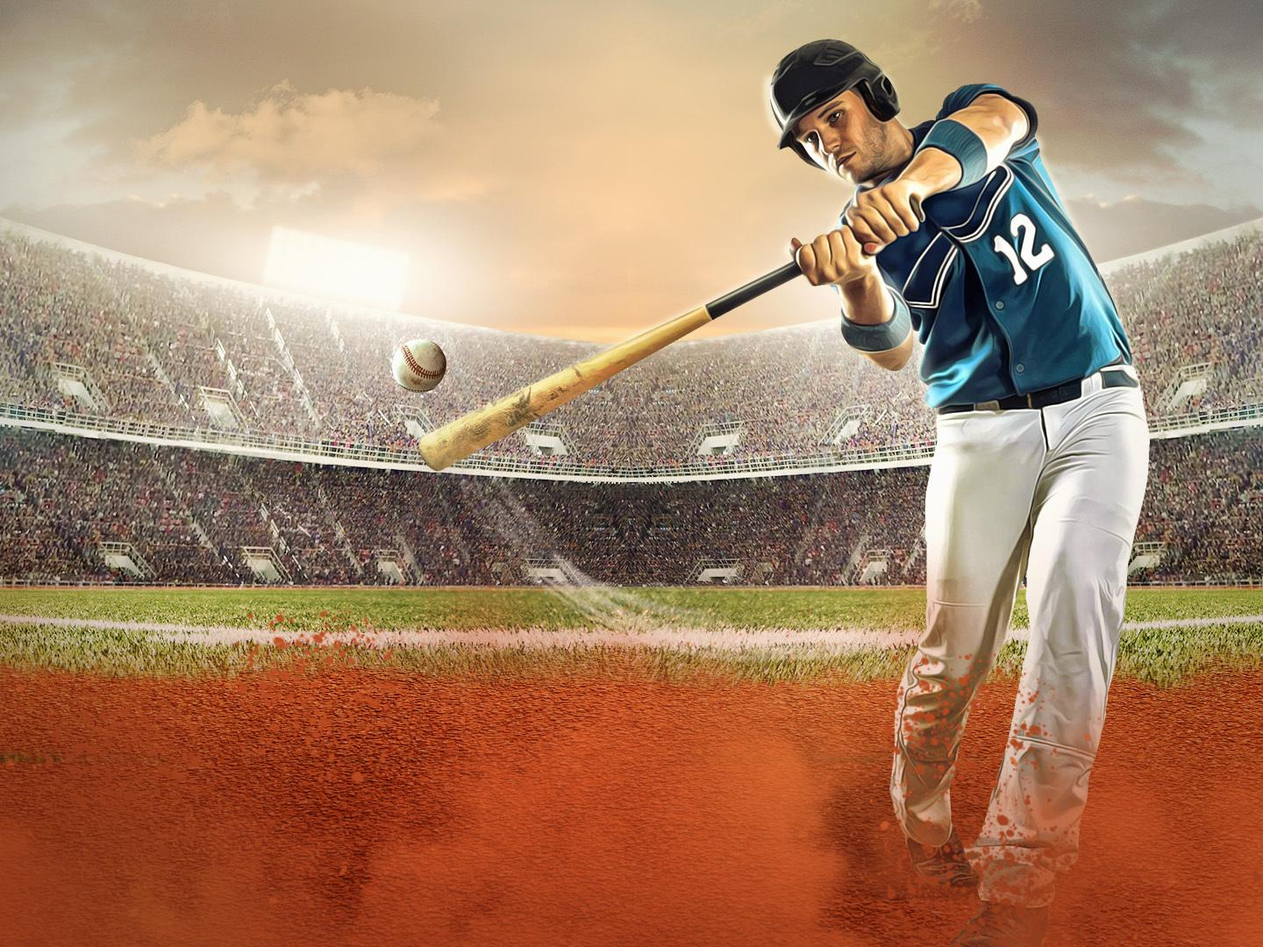baseball: (390, 339, 448, 393)
